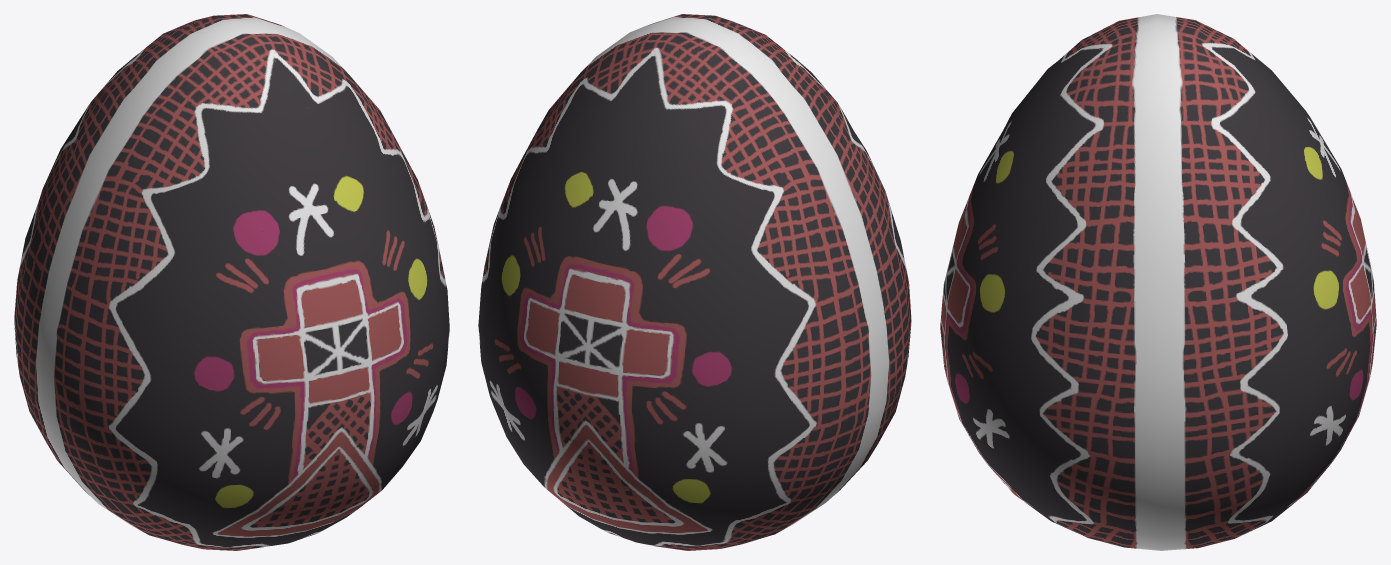
3 renders of one model, left to right at view 1: azimuth 30°, elevation 25°; view 2: azimuth 150°, elevation 25°; view 3: azimuth 270°, elevation 25°, orthographic.
Parts seen in each view (by area): view 1: Pysanka_mesh; view 2: Pysanka_mesh; view 3: Pysanka_mesh.
Boxes of the visible parts, x1,y1,x2,y2 form: Pysanka_mesh: (14,14,449,550); Pysanka_mesh: (478,14,911,550); Pysanka_mesh: (940,14,1376,550).
Bounding box in the file's own units: 0.7642 × 0.9889 × 0.7708.
1 material, 1 textured.
